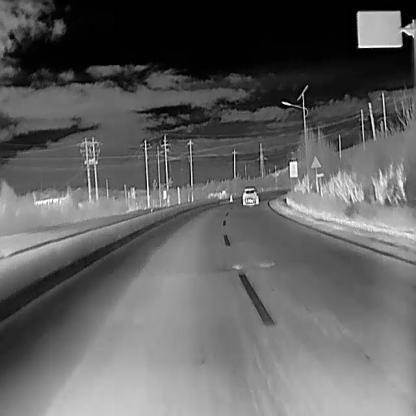car: (242, 184, 258, 204)
